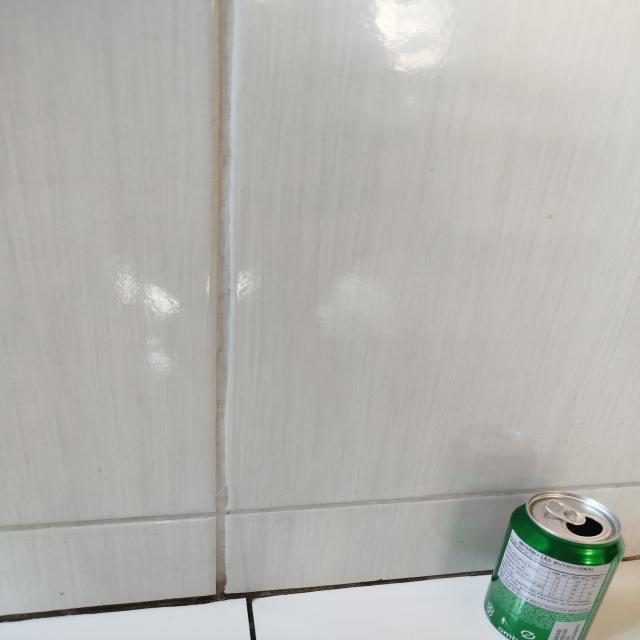Guarana: (485, 490, 623, 638)
